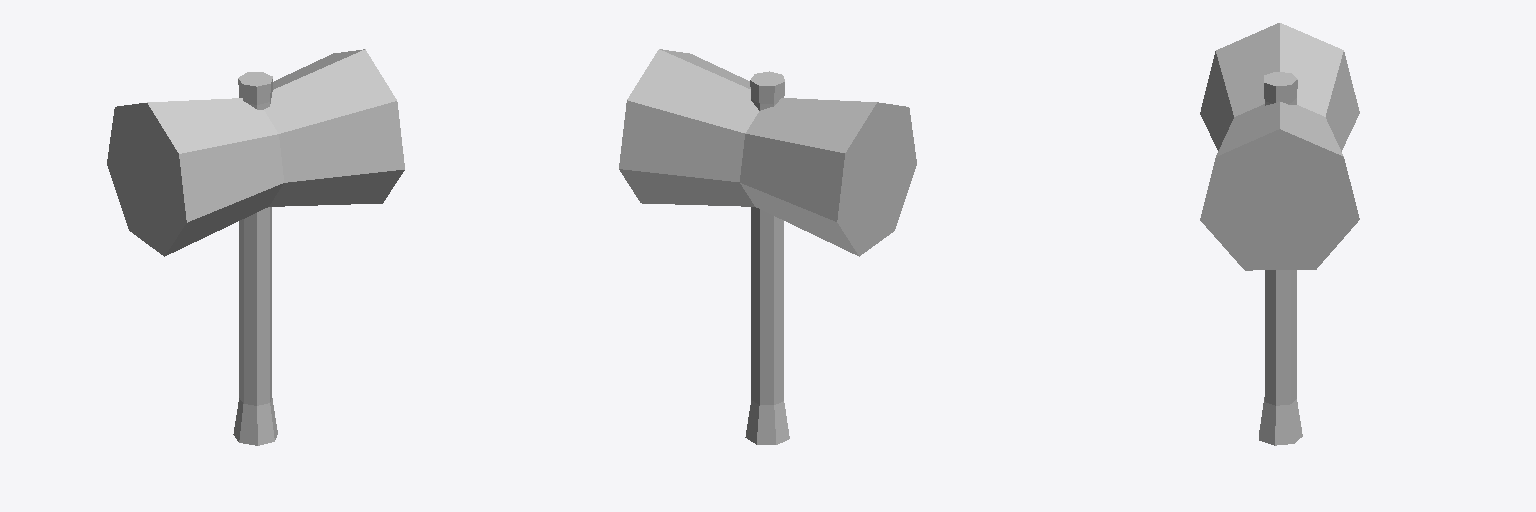
The model's file is mazo.obj.
The picture shows the model from 3 angles: view 1: azimuth 30°, elevation 25°; view 2: azimuth 150°, elevation 25°; view 3: azimuth 270°, elevation 25°; orthographic projection.
Parts seen in each view (by area): view 1: Cylinder.001, Cylinder; view 2: Cylinder.001, Cylinder; view 3: Cylinder.001, Cylinder.
Part boxes in pixels (x1,y1,x2,y2): Cylinder.001: (107, 49, 404, 256); Cylinder: (233, 72, 277, 445); Cylinder.001: (619, 49, 916, 256); Cylinder: (745, 71, 789, 444); Cylinder.001: (1200, 23, 1359, 270); Cylinder: (1259, 72, 1302, 445).
Bounding box in the file's own units: 0.4307 × 0.6793 × 0.2733.